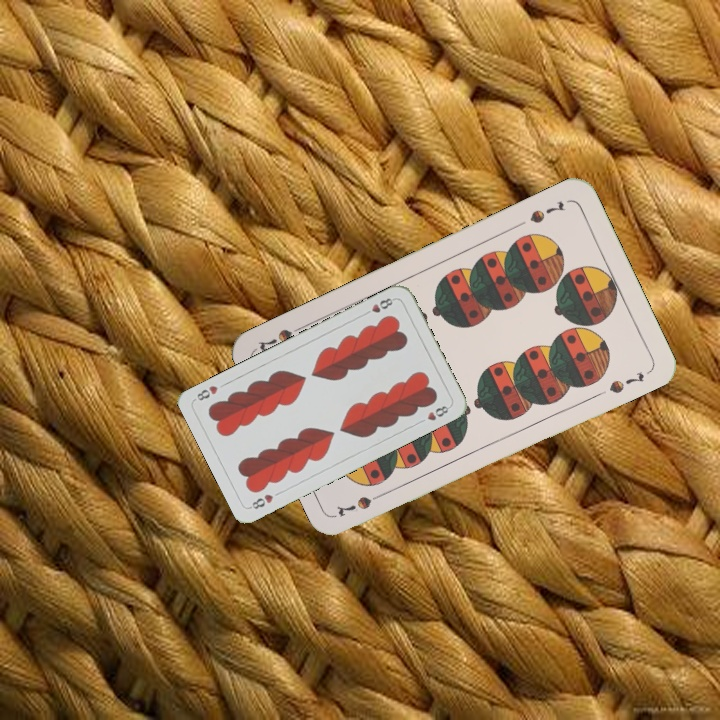H8: (360, 294, 398, 318), (246, 490, 276, 512)
S7: (333, 488, 389, 520), (526, 197, 567, 226)
